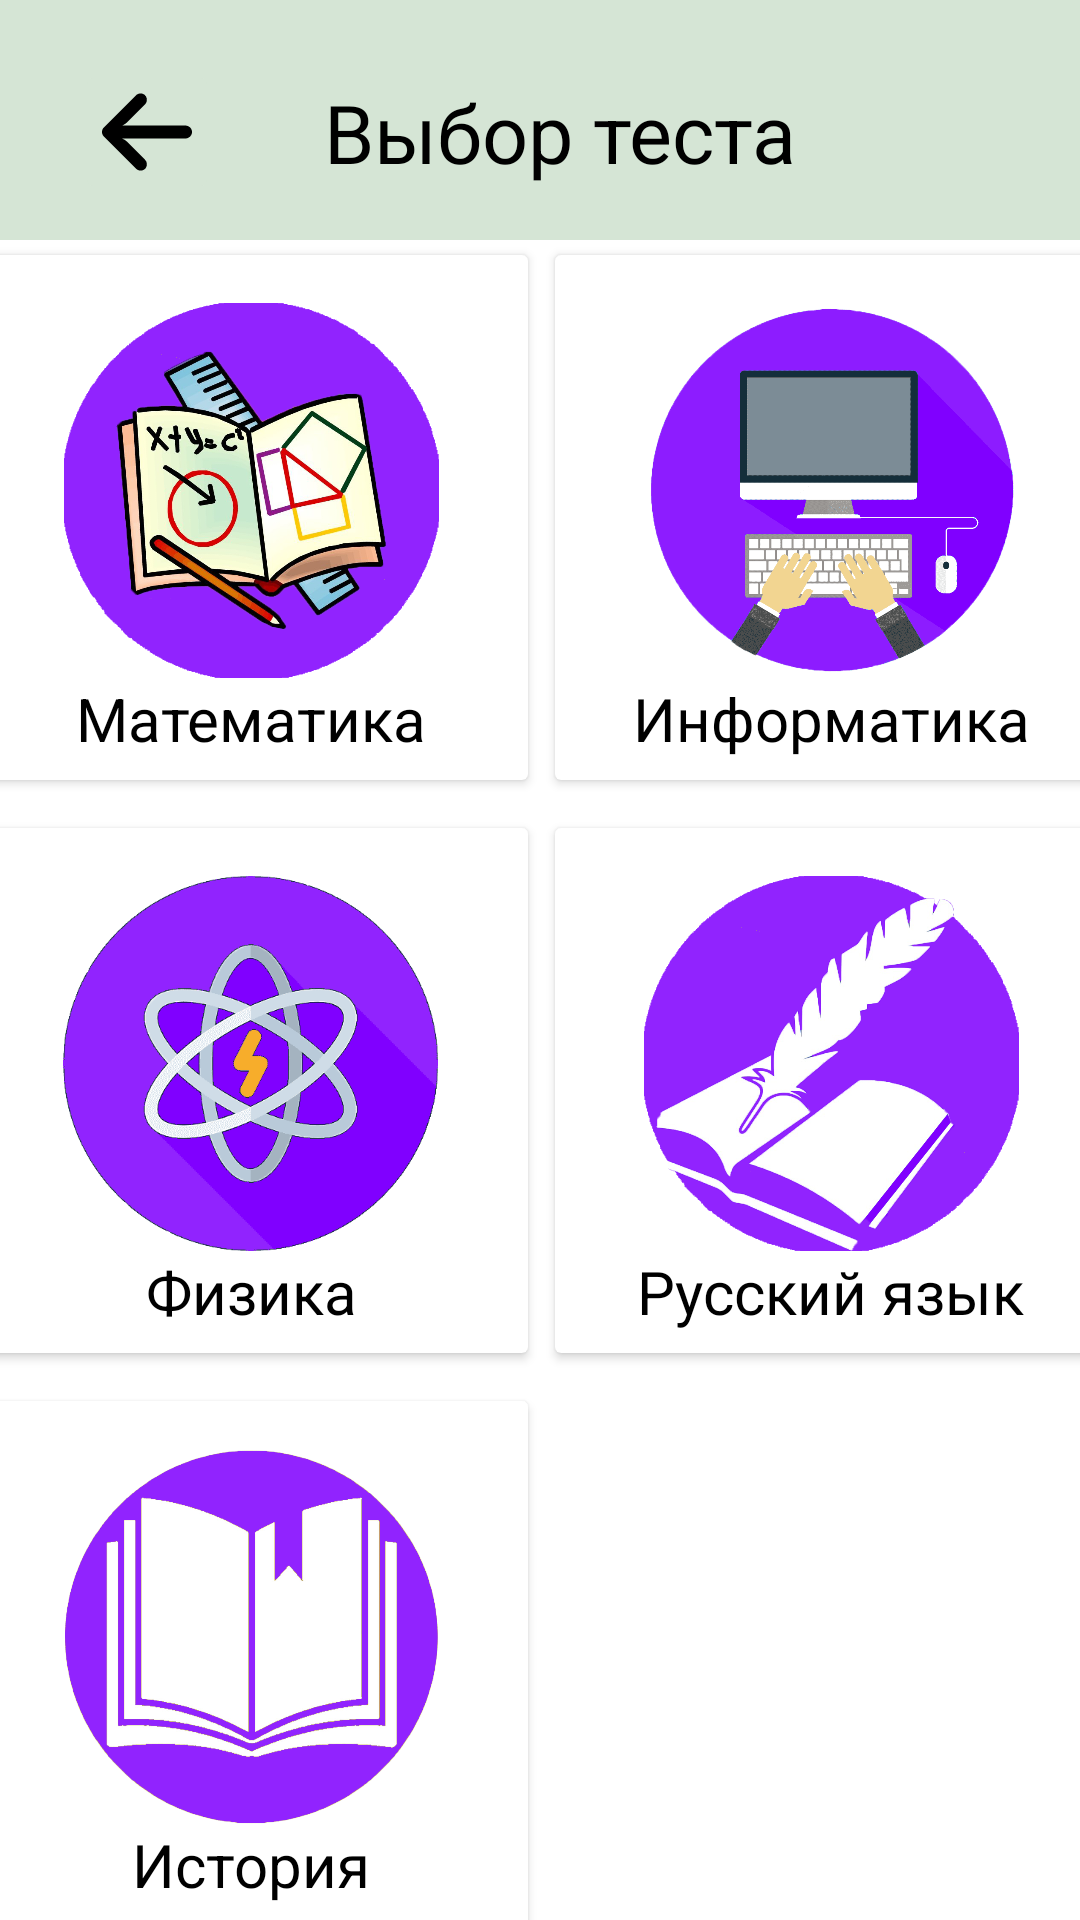

Screen size 1080×1920. Icon name, then its box in pixels as (x1, y1, x2, y2):
Назад: (102, 93, 192, 171)
